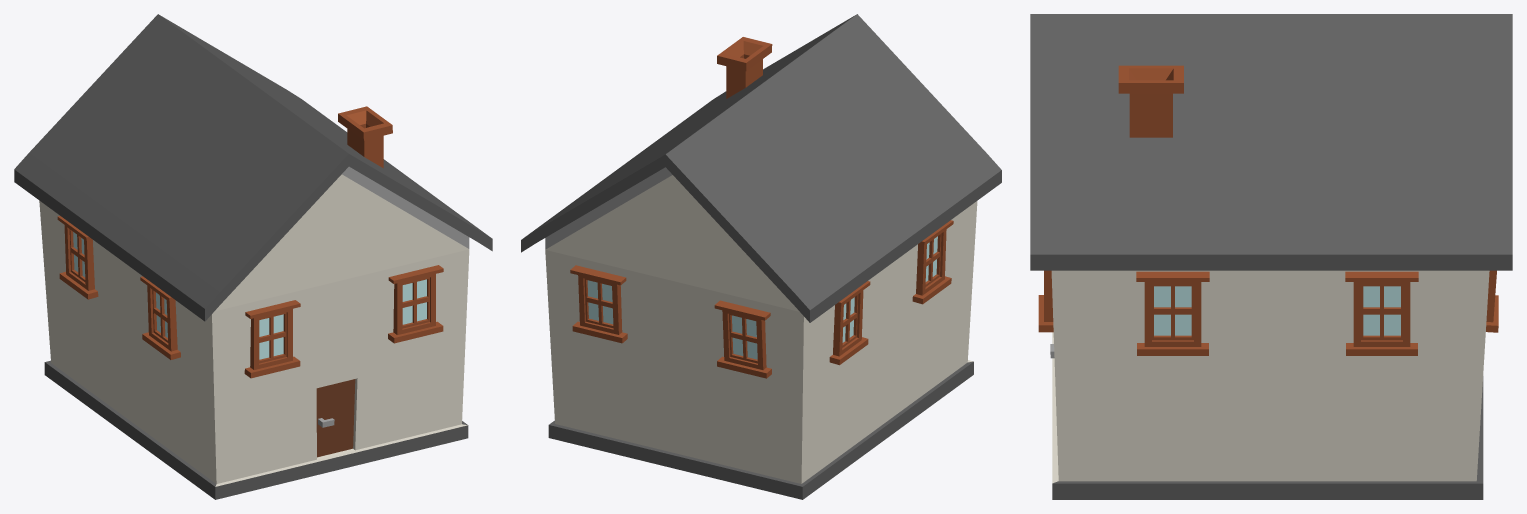
Rendered from house2.glb.
The picture shows the model from 3 angles, left to right: view 1: azimuth 30°, elevation 25°; view 2: azimuth 150°, elevation 25°; view 3: azimuth 270°, elevation 25°; orthographic projection. The views are drawn at different scales.
Visible parts, largest first — view 1: House2; view 2: House2; view 3: House2.
Part boxes in pixels (x1,y1,x2,y2): House2: (14, 14, 492, 499); House2: (521, 14, 1001, 499); House2: (1030, 14, 1512, 499).
Bounding box in the file's own units: 1.25 × 1.34 × 1.44.
1 material, 1 textured.
